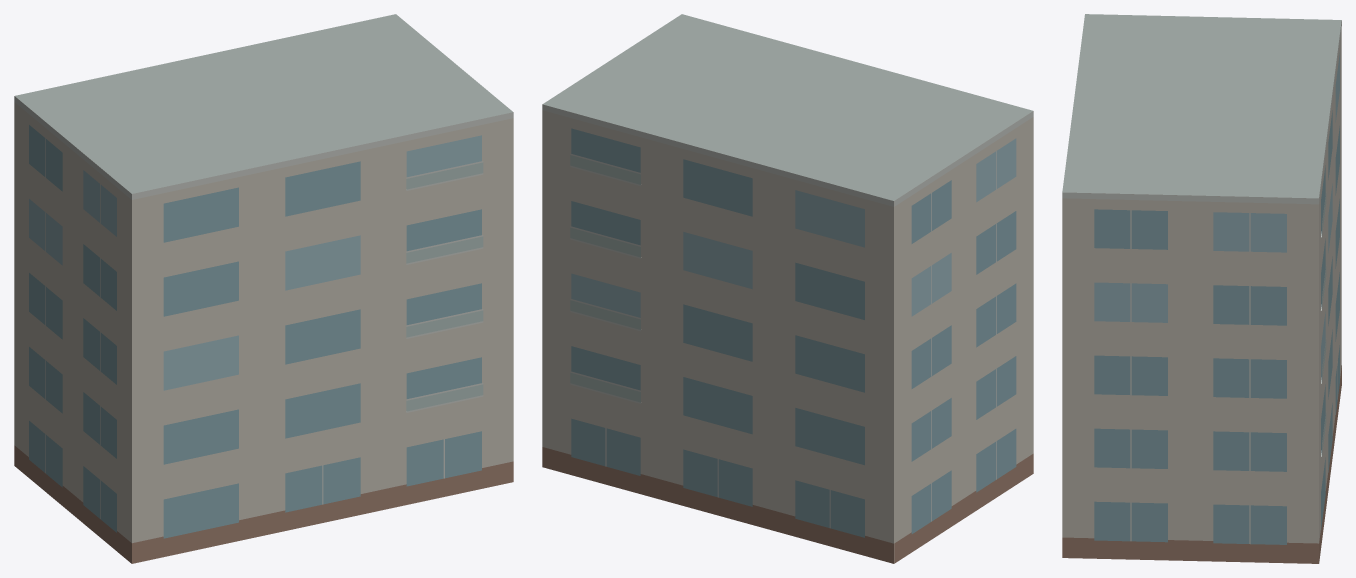
File: survey-upis-32963143.glb
3 views of the same model, side by side, from view 1: azimuth 30°, elevation 25°; view 2: azimuth 150°, elevation 25°; view 3: azimuth 270°, elevation 25° (orthographic).
Visible parts, largest first — view 1: survey-upis-32963143.tmp; view 2: survey-upis-32963143.tmp; view 3: survey-upis-32963143.tmp.
Boxes of the visible parts, x1=… form: survey-upis-32963143.tmp: x1=14, y1=14, x2=513, y2=563; survey-upis-32963143.tmp: x1=542, y1=14, x2=1033, y2=563; survey-upis-32963143.tmp: x1=1062, y1=14, x2=1341, y2=563.
Bounding box in the file's own units: 16.31 × 15.06 × 10.45.
